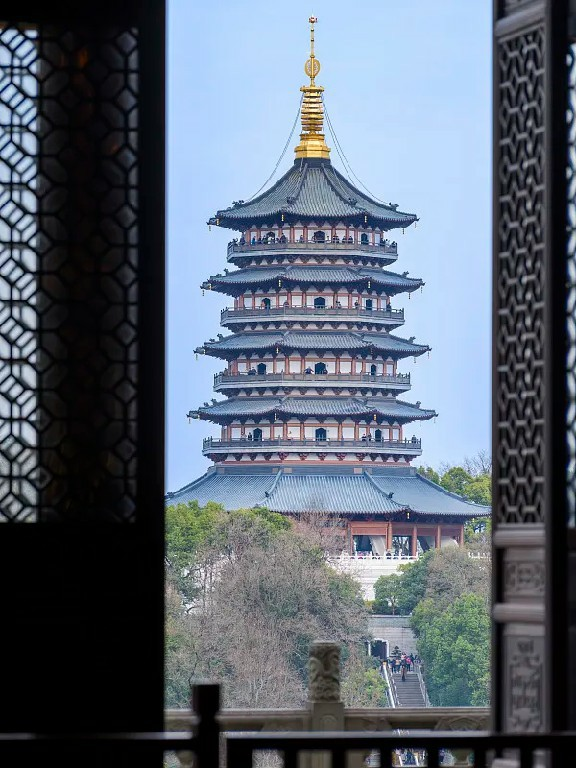Leifeng: (170, 13, 483, 557)
